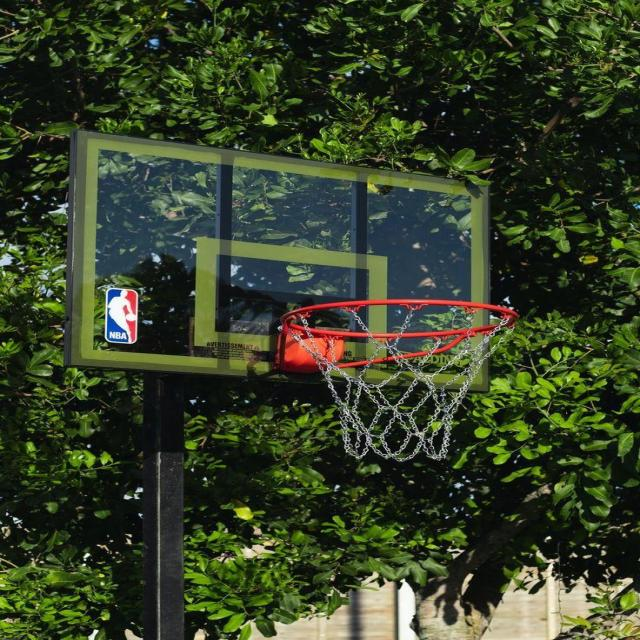hoop: (267, 291, 537, 471)
